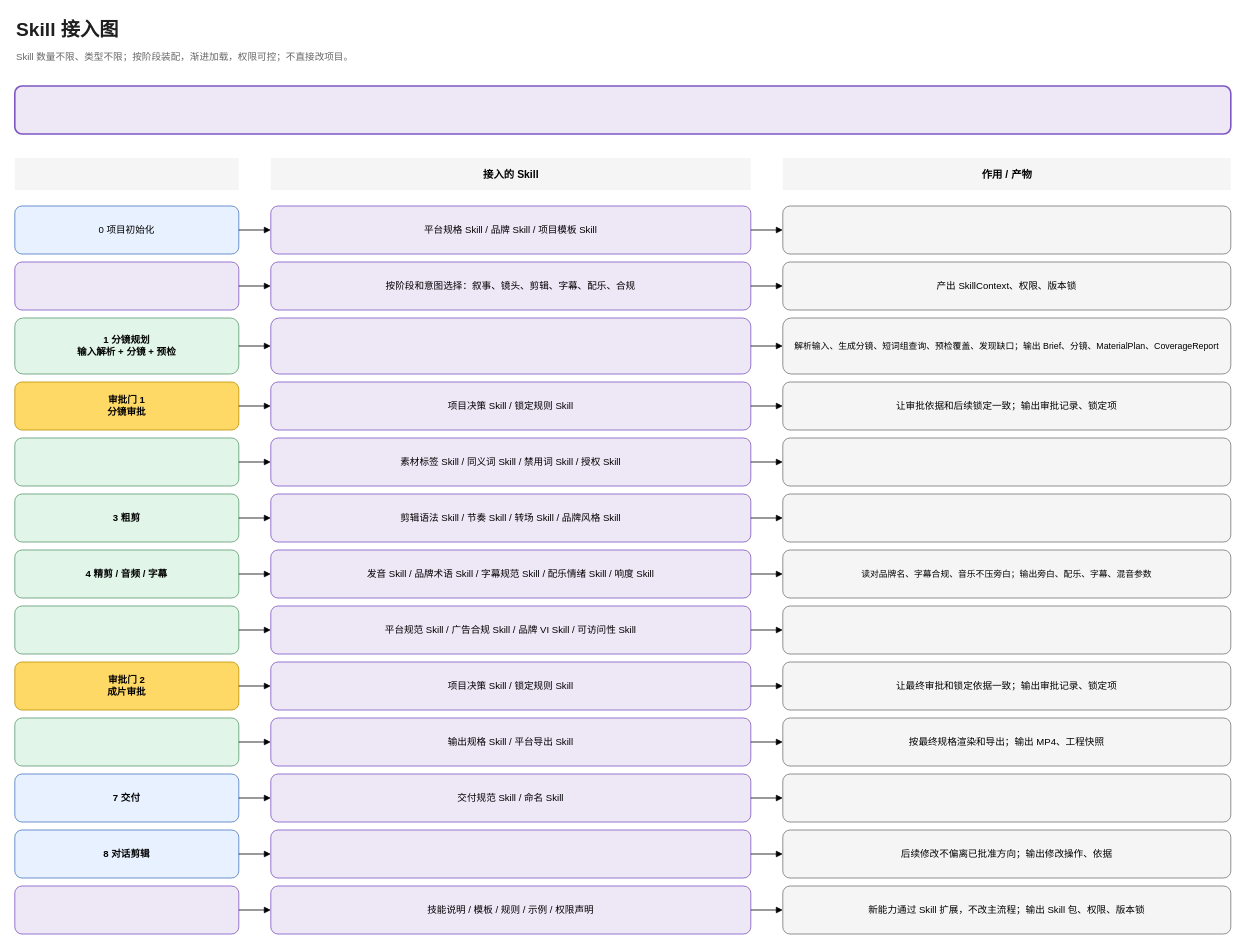
This 1245x948 diagram has some shape labels left out. The box of each missing label's shape, as (x1, y1, x2, y2) in pixels:
0.5 Skill 装配: (14, 261, 239, 310)
2 素材检索: (14, 437, 239, 486)
5 草稿 / 质检: (14, 605, 239, 654)
6 最终渲染: (14, 717, 239, 766)
Skill 导入: (14, 885, 239, 934)
Skill 注册表 → Skill 路由 / 激活 → 渐进加载 → 权限校验 → 注入对应 Agent: (14, 85, 1231, 134)
决定镜头长度、顺序、转场；输出 EDL、剪辑理由: (782, 493, 1231, 542)
命名、归档、清单一致；输出交付清单、归档记录: (782, 773, 1231, 822)
品牌/产品、受众/风格、历史项目、叙事结构、镜头语言、类型模板、案例、素材分类、同义词/别名、版权: (270, 317, 751, 374)
扩大召回、避免错误素材、保证可用；输出查询、候选、过滤理由: (782, 437, 1231, 486)
检查违规、品牌错误、字幕可读性；输出质检报告、修复建议: (782, 605, 1231, 654)
画幅、时长、平台限制、品牌禁用项；输出项目约束: (782, 205, 1231, 254)
阶段: (14, 158, 238, 190)
项目决策 Skill / 锁定规则 Skill / 历史修改 Skill / 风格 Skill: (270, 829, 751, 878)
